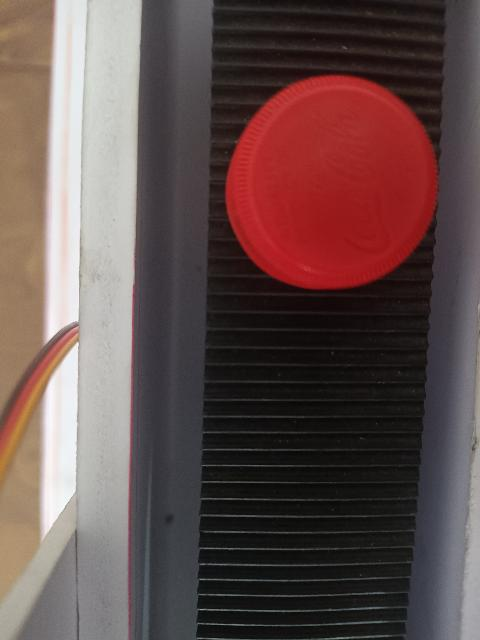bottlecap: (222, 63, 438, 291)
